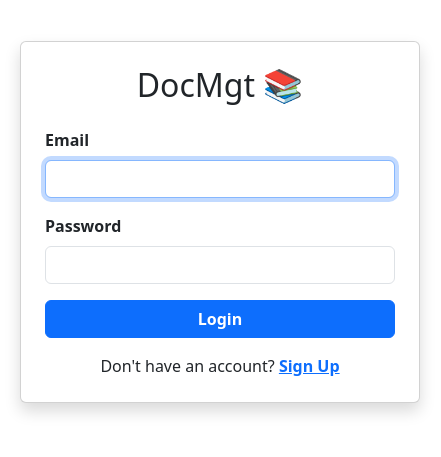
Test: Login UI › shows validation errors when fields are empty
The width and height of the screenshot is (441, 457).
Click the button "Login" at (220, 319), box [45, 300, 395, 338]
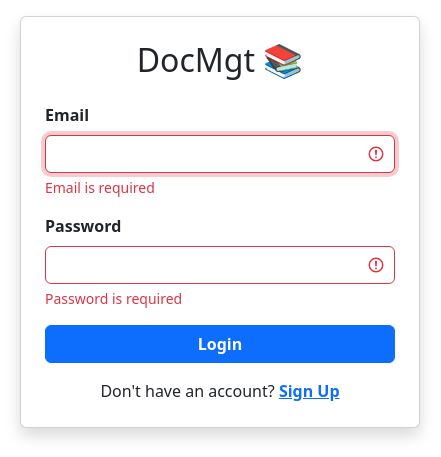
Expected: the text "Email is required" is shown 2 times, [45, 178, 155, 197]; [45, 289, 182, 308]
